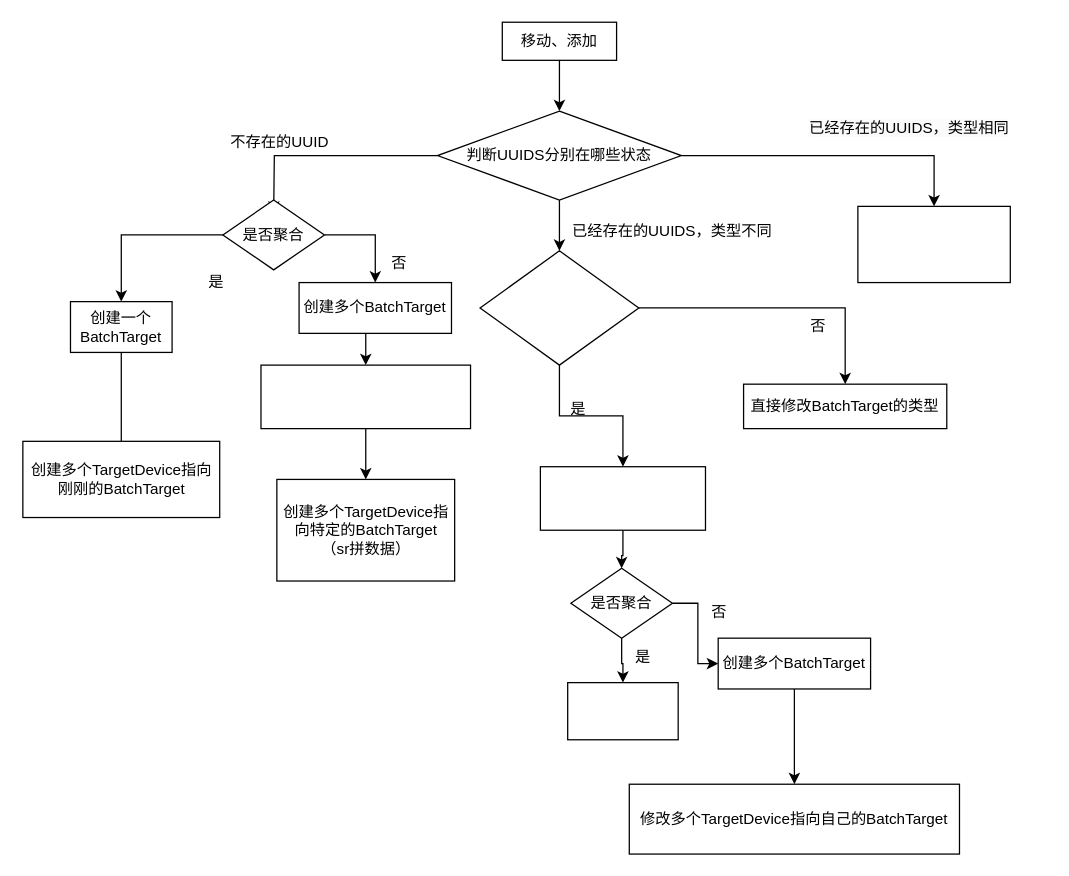
Image size: 1069x876. Some labels were removed from this diagram. Here are the shapes that lost their labels. From the top down, the centre of each, then its label:
the point at 933,244: 不处理
the point at 559,307: 是否在多设备包
the point at 365,396: 查询刚刚创建的BatchTarget 得到batch_target_ids
the point at 622,497: 直接修改target_device的batch_target_id
the point at 622,710: 指向特定的BatchTarget
